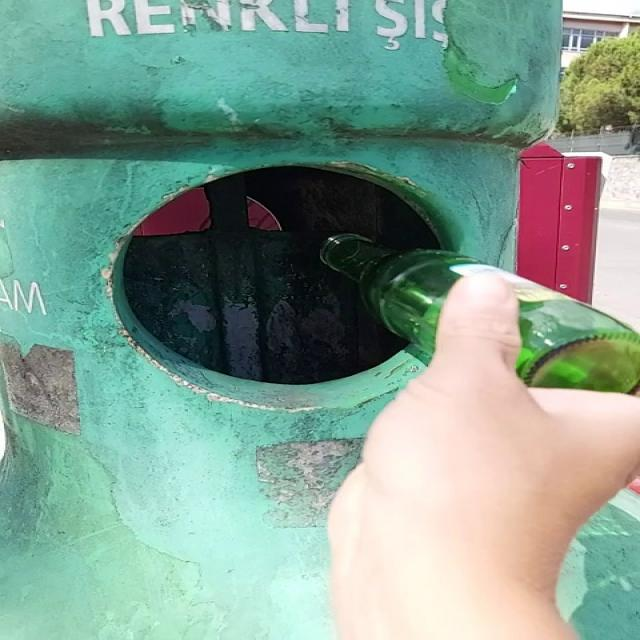glass: (321, 234, 640, 393)
